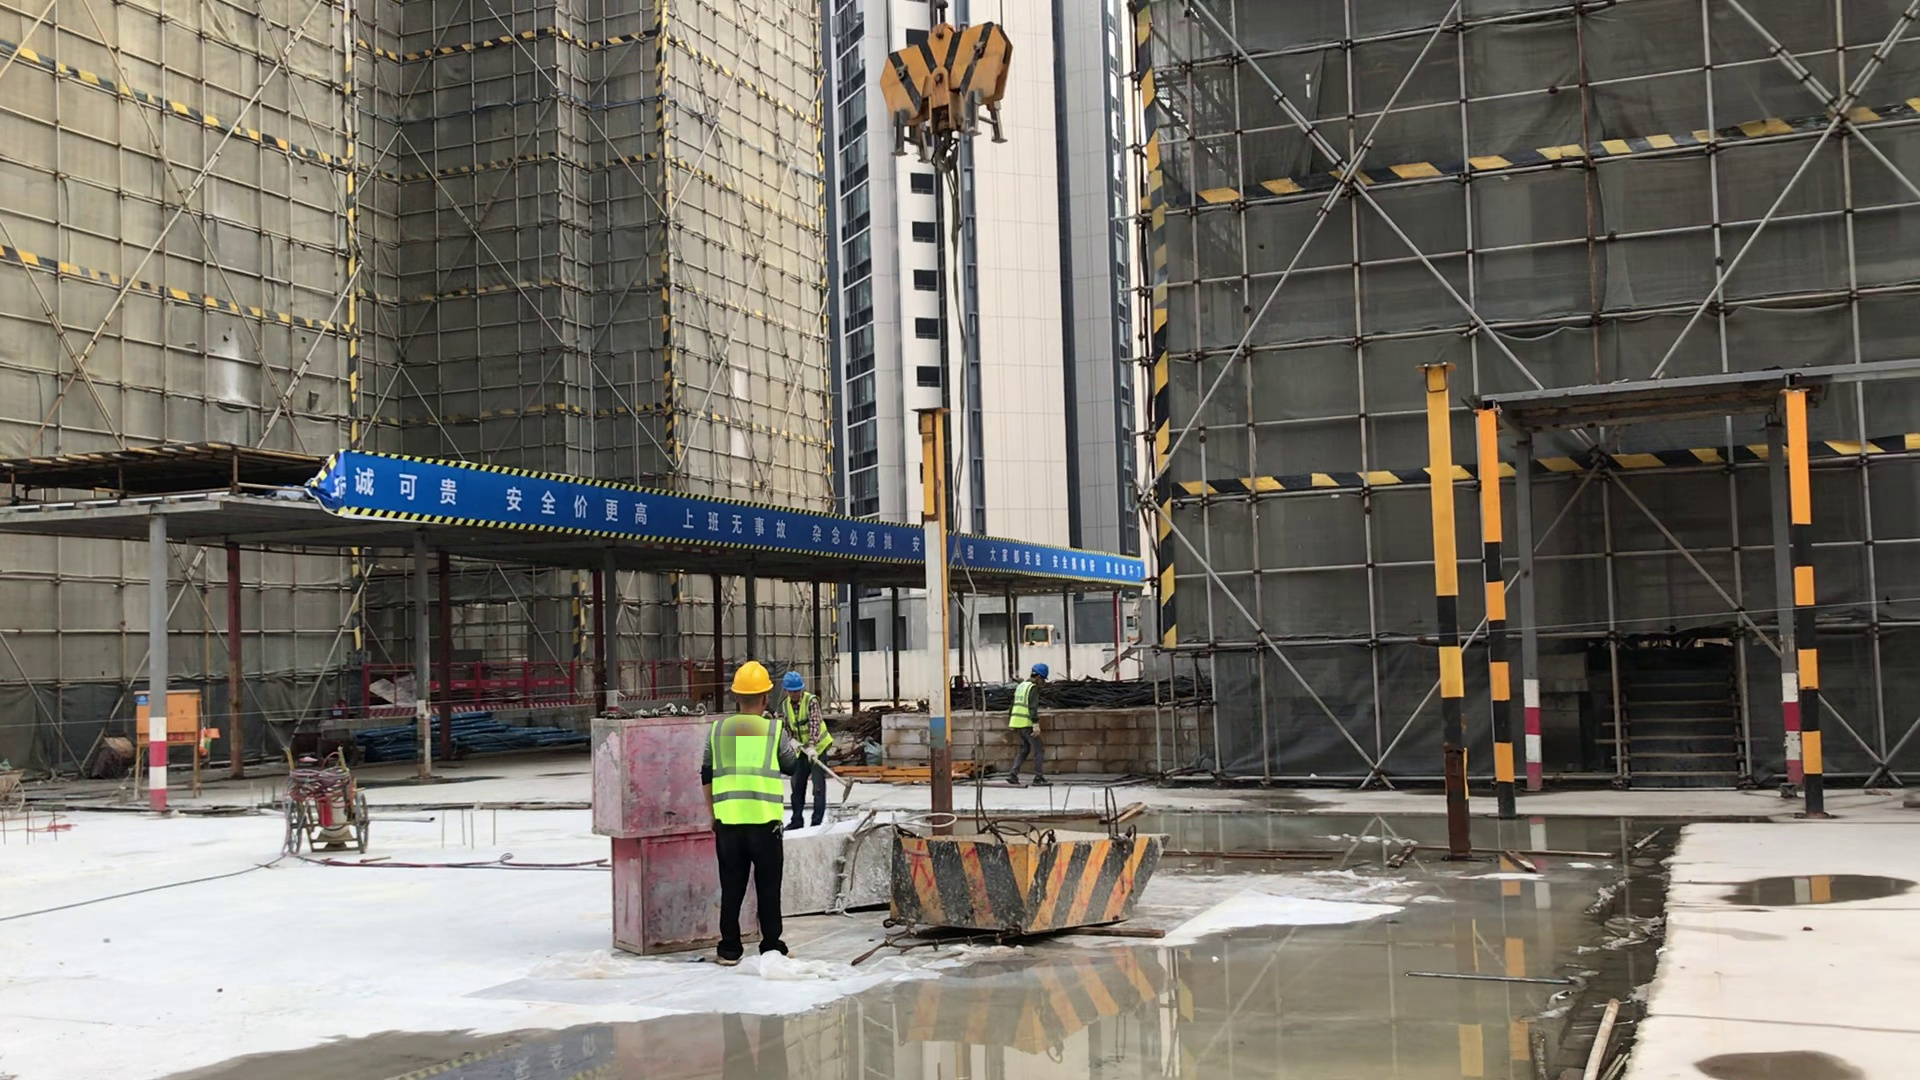ebox: (132, 691, 198, 738)
fence: (361, 656, 727, 718)
handcart: (279, 738, 365, 854)
helmet: (731, 660, 771, 693), (782, 672, 803, 691), (1031, 662, 1048, 678)
hook: (877, 3, 1015, 172)
hopper: (908, 829, 1166, 937), (785, 804, 913, 914)
person: (701, 660, 800, 967), (782, 671, 834, 831), (1007, 662, 1053, 787)
slogan: (333, 454, 1147, 592)
vest: (712, 714, 783, 826), (778, 694, 832, 756), (1008, 680, 1031, 730)
